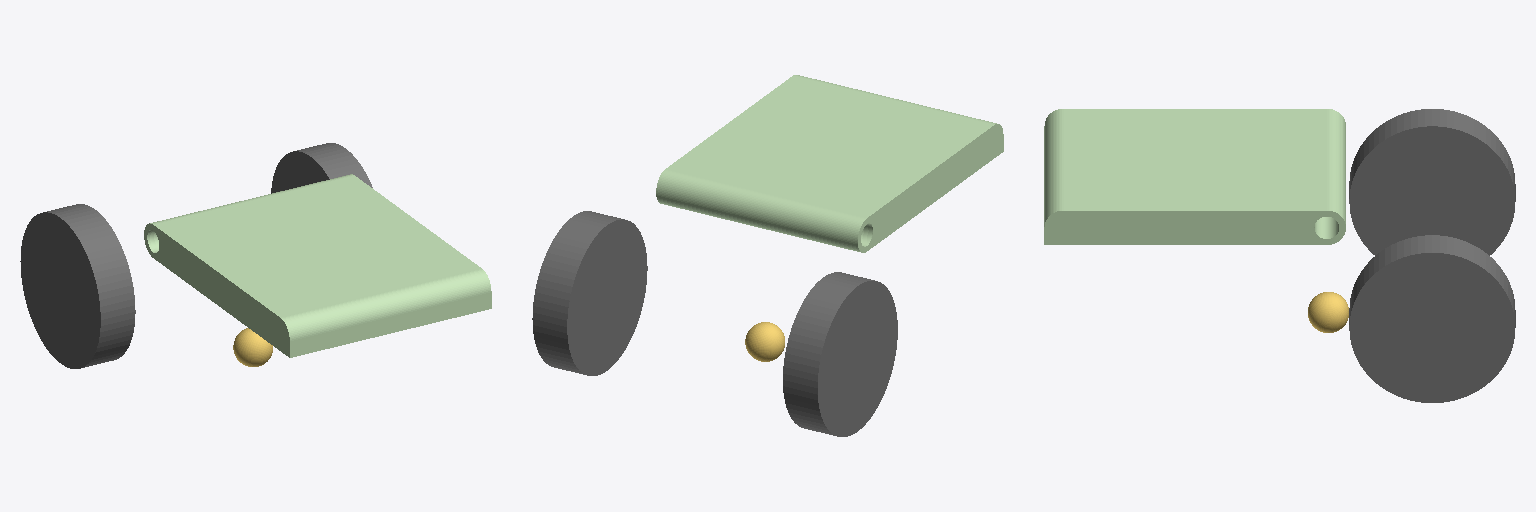
URDF robot description (DeliveryBot):
<robot name="DeliveryBot">
    <link name="base_link"></link>
    <joint name="base_link_to_base" type="fixed">
        <parent link="base_link"/>
        <child link="body" />
        <origin rpy="0.0 0 0" xyz="0 0 0"/>
    </joint>
    <link name="body">
        <visual>
            <origin xyz="-5.55112e-17 -0.00273569 -0.05" rpy="0 -0 0" />
            <geometry>
                <mesh filename="package://deliverybot/urdf/meshes/body.stl"/>
            </geometry>
            <material name="body_material">
                <color rgba="0.768627 0.886275 0.952941 1.0"/>
            </material>
        </visual>
        <collision>
            <origin xyz="-5.55112e-17 -0.00273569 -0.05" rpy="0 -0 0" />
            <geometry>
                <mesh filename="package://deliverybot/urdf/meshes/body.stl"/>
            </geometry>
            <material name="body_material">
                <color rgba="0.768627 0.886275 0.952941 1.0"/>
            </material>
        </collision>
        <inertial>
            <origin xyz="2.01199e-16 0.0116169 0.135939" rpy="0 0 0"/>
            <mass value="9.56649" />
            <inertia ixx="0.270308" ixy="0" ixz="-1.76457e-16" iyy="0.296385" iyz="-0.0146076" izz="0.178823" />
        </inertial>
    </link>

    <link name="left_wheel">
        <visual>
            <origin xyz="0 -0.1 0.155" rpy="-1.5708 -1.5708 0" />
            <geometry>
                <mesh filename="package://deliverybot/urdf/meshes/left_wheel.stl"/>
            </geometry>
            <material name="left_wheel_material">
                <color rgba="0.498039 0.498039 0.498039 1.0"/>
            </material>
        </visual>
        <collision>
            <origin xyz="0 -0.1 0.155" rpy="-1.5708 -1.5708 0" />
            <geometry>
                <mesh filename="package://deliverybot/urdf/meshes/left_wheel.stl"/>
            </geometry>
            <material name="left_wheel_material">
                <color rgba="0.498039 0.498039 0.498039 1.0"/>
            </material>
        </collision>
        <inertial>
            <origin xyz="-2.28687e-18 0 -0.025" rpy="0 0 0"/>
            <mass value="1.65248" />
            <inertia ixx="0.00447546" ixy="-1.05108e-18" ixz="0" iyy="0.00826239" iyz="0" izz="0.00447546" />
        </inertial>
    </link>

    <joint name="body_left_wheel" type="continuous">
        <origin xyz="-0.155 -0.00273569 0.05" rpy="-3.14159 -1.5708 0" />
        <parent link="body" />
        <child link="left_wheel" />
        <axis xyz="0 0 1"/>
        <limit effort="1" velocity="20" />
        <joint_properties friction="0.0"/>
    </joint>

    <link name="right_wheel">
        <visual>
            <origin xyz="0 0.1 0.155" rpy="1.5708 1.5708 0" />
            <geometry>
                <mesh filename="package://deliverybot/urdf/meshes/right_wheel.stl"/>
            </geometry>
            <material name="right_wheel_material">
                <color rgba="0.498039 0.498039 0.498039 1.0"/>
            </material>
        </visual>
        <collision>
            <origin xyz="0 0.1 0.155" rpy="1.5708 1.5708 0" />
            <geometry>
                <mesh filename="package://deliverybot/urdf/meshes/right_wheel.stl"/>
            </geometry>
            <material name="right_wheel_material">
                <color rgba="0.498039 0.498039 0.498039 1.0"/>
            </material>
        </collision>
        <inertial>
            <origin xyz="-2.28687e-18 0 -0.025" rpy="0 0 0"/>
            <mass value="1.65248" />
            <inertia ixx="0.00447546" ixy="1.05108e-18" ixz="0" iyy="0.00826239" iyz="0" izz="0.00447546" />
        </inertial>
    </link>

    <joint name="body_right_wheel" type="continuous">
        <origin xyz="0.155 -0.00273569 0.05" rpy="-2.77556e-16 -1.5708 0" />
        <parent link="body" />
        <child link="right_wheel" />
        <axis xyz="0 0 1"/>
        <limit effort="1" velocity="20" />
        <joint_properties friction="0.0"/>
    </joint>

    <link name="castor">
        <visual>
            <origin xyz="0 0.125 -0.025" rpy="0 -0 0" />
            <geometry>
                <mesh filename="package://deliverybot/urdf/meshes/castor.stl"/>
            </geometry>
            <material name="castor_material">
                <color rgba="0.960784 0.835294 0.470588 1.0"/>
            </material>
        </visual>
        <collision>
            <origin xyz="0 0.125 -0.025" rpy="0 -0 0" />
            <geometry>
                <mesh filename="package://deliverybot/urdf/meshes/castor.stl"/>
            </geometry>
            <material name="castor_material">
                <color rgba="0.960784 0.835294 0.470588 1.0"/>
            </material>
        </collision>
        <inertial>
            <origin xyz="0 0 3.46945e-18" rpy="0 0 0"/>
            <mass value="0.0688532" />
            <inertia ixx="1.72133e-05" ixy="0" ixz="0" iyy="1.72133e-05" iyz="0" izz="1.72133e-05" />
        </inertial>
    </link>

    <joint name="body_castor" type="fixed">
        <origin xyz="-5.55112e-17 -0.127736 -0.025" rpy="0 -0 0" />
        <parent link="body" />
        <child link="castor" />
        <axis xyz="0 0 1"/>
        <limit effort="1" velocity="20" />
        <joint_properties friction="0.0"/>
    </joint>

    <link name="door">
        <visual>
            <origin xyz="0.127 -0.205 -0.145" rpy="-1.5708 -1.5708 0" />
            <geometry>
                <mesh filename="package://deliverybot/urdf/meshes/door.stl"/>
            </geometry>
            <material name="door_material">
                <color rgba="0.796078 0.905882 0.745098 1.0"/>
            </material>
        </visual>
        <collision>
            <origin xyz="0.127 -0.205 -0.145" rpy="-1.5708 -1.5708 0" />
            <geometry>
                <mesh filename="package://deliverybot/urdf/meshes/door.stl"/>
            </geometry>
            <material name="door_material">
                <color rgba="0.796078 0.905882 0.745098 1.0"/>
            </material>
        </collision>
        <inertial>
            <origin xyz="-0.000258506 0.145116 -0.145" rpy="0 0 0"/>
            <mass value="0.596718" />
            <inertia ixx="0.00521211" ixy="1.20185e-47" ixz="2.98715e-05" iyy="0.00816722" iyz="5.06885e-50" izz="0.0129235" />
        </inertial>
    </link>

    <joint name="body_door" type="revolute">
        <origin xyz="0.145 -0.129736 0.155" rpy="-3.14159 -1.5708 0" />
        <parent link="body" />
        <child link="door" />
        <axis xyz="0 0 1"/>
        <limit effort="1" velocity="20" lower="-1.5708" upper="0.523599"/>
        <joint_properties friction="0.0"/>
    </joint>


</robot>

--- Facts derived from the render (not from the file) ---
3 views of the same robot in one strip: view 1: azimuth 30°, elevation 25°; view 2: azimuth 150°, elevation 25°; view 3: azimuth 270°, elevation 25° (orthographic).
Model DeliveryBot with 6 links and 5 joints (1 revolute, 2 continuous, 2 fixed), rooted at base_link, posed all joints at 0.
Visible links, largest first — view 1: door, left_wheel, right_wheel, castor; view 2: door, left_wheel, right_wheel, castor; view 3: door, right_wheel, left_wheel, castor.
Boxes of the visible links, bbox=[...] form: door: bbox=[144, 174, 491, 357]; left_wheel: bbox=[20, 204, 135, 368]; right_wheel: bbox=[271, 143, 372, 193]; castor: bbox=[233, 328, 272, 366]; door: bbox=[656, 75, 1003, 252]; left_wheel: bbox=[783, 272, 897, 436]; right_wheel: bbox=[532, 211, 647, 375]; castor: bbox=[745, 322, 784, 361]; door: bbox=[1044, 109, 1345, 244]; right_wheel: bbox=[1349, 235, 1515, 402]; left_wheel: bbox=[1349, 109, 1515, 255]; castor: bbox=[1308, 292, 1348, 332].
Size in the robot's own frame: 0.41 by 0.567 by 0.228 metres.
Meshes: 5 distinct files referenced, 4 mesh visuals loaded (4 binary STL); not drawn: 1 (reference not matched to a file when rendering).